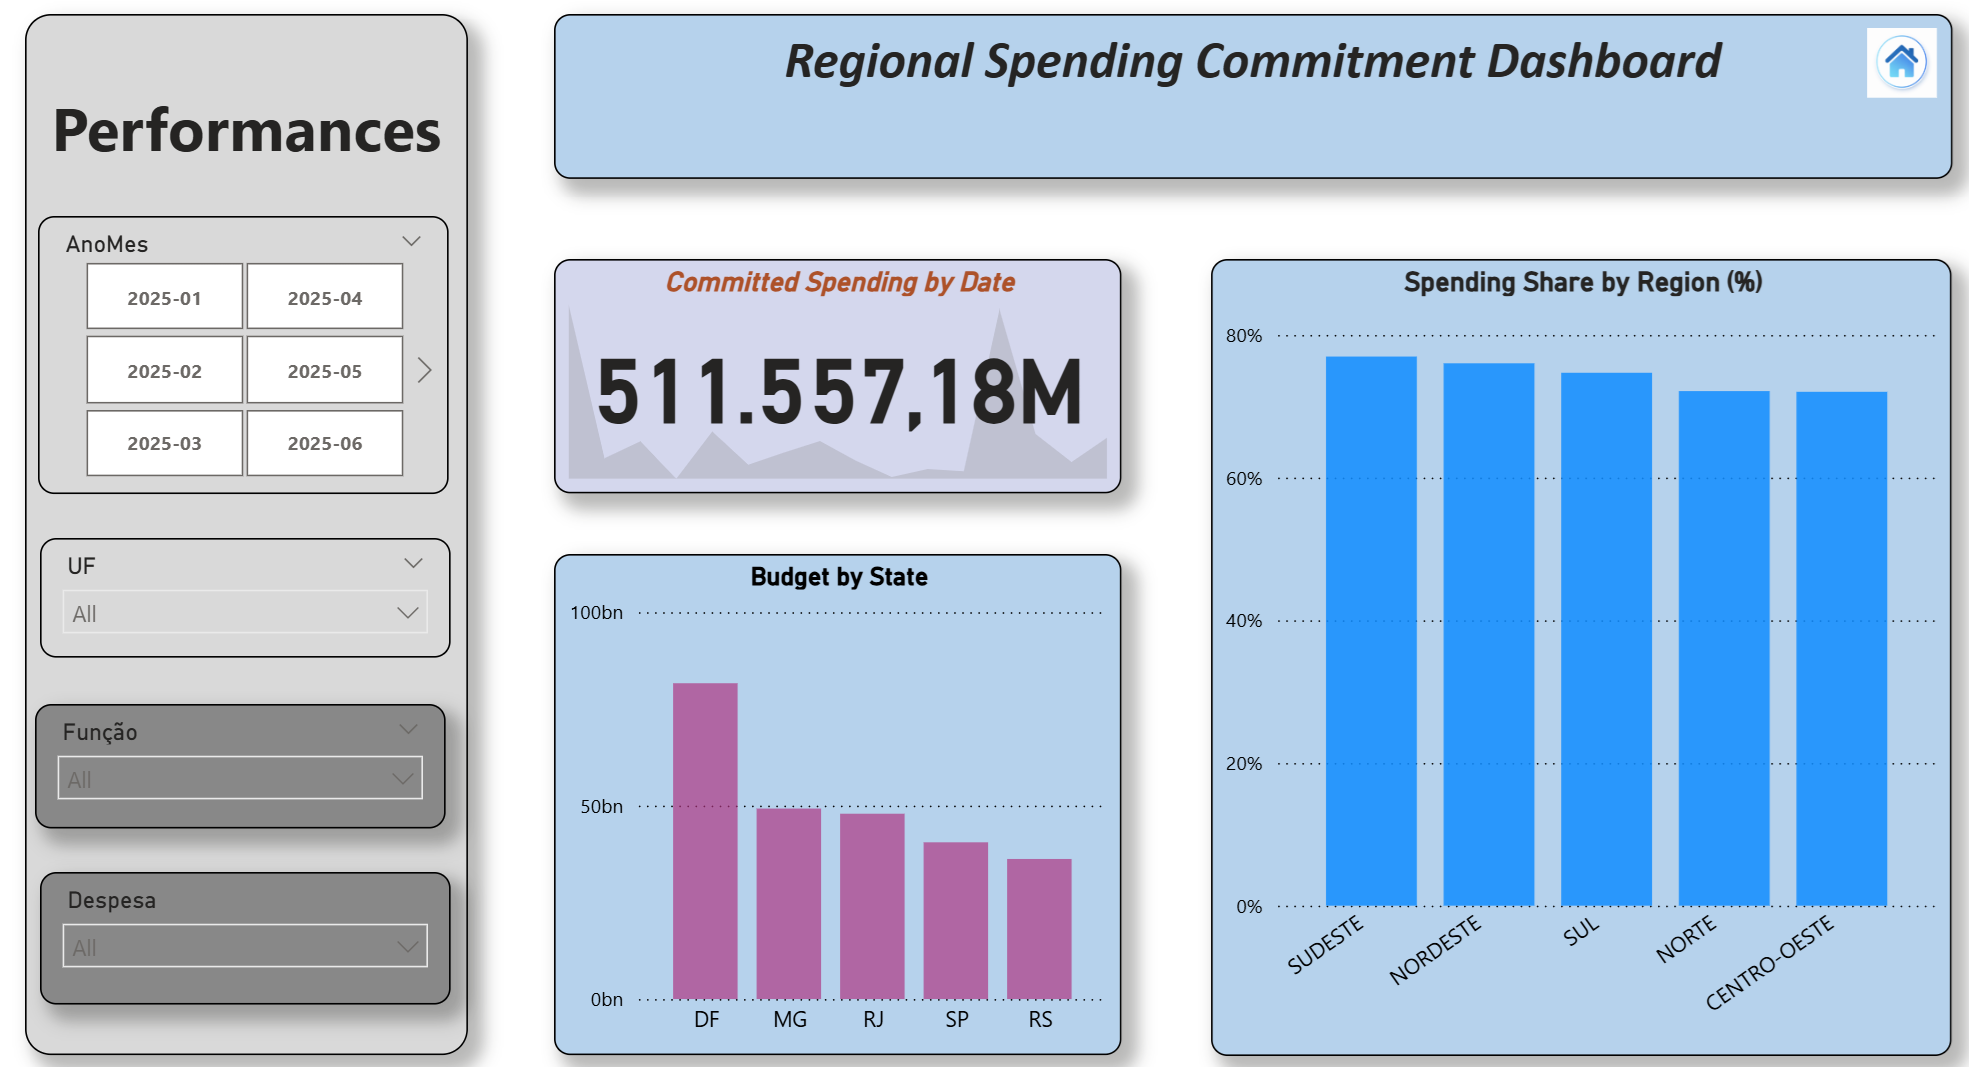

The dashboard page shown, as its layout file describes it:
{"tool":"powerbi","page":{"name":"Reg Control","canvas":[1280,720],"ordinal":2},"visuals":[{"type":"clusteredColumnChart","title":"Budget by State","fields":{"Category":["Dim_UF.UF"],"Y":["Messure.Total Empenhado"]},"box":[370.1,357.5,351.2,310.3],"z":0},{"type":"textbox","box":[370.1,23.6,864.7,102.4],"z":1},{"type":"clusteredColumnChart","title":"Spending Share by Region (%)","fields":{"Category":["Dim_UF.Regiao"],"Y":["Messure.% Execução Real"]},"box":[776.5,174.8,458.3,493],"z":3},{"type":"textbox","box":[42.5,23.6,274.1,644.2],"z":4},{"type":"slicer","fields":{"Values":["Dim_Funcao.Nome Função"]},"box":[48.9,450,254.2,77.4],"z":5},{"type":"slicer","fields":{"Values":["Dim_Despesa.Modalidade da Despesa"]},"box":[52.1,554.2,254.2,82.1],"z":6},{"type":"slicer","fields":{"Values":["Dim_Calendario.AnoMes"]},"box":[50.5,148.4,254.2,172.1],"z":7},{"type":"slicer","fields":{"Values":["Dim_UF.UF"]},"box":[52.1,347.4,254.2,74.2],"z":8},{"type":"kpi","title":"Committed Spending by Date","fields":{"Indicator":["Messure.Total Empenhado"],"TrendLine":["Dim_Calendario.AnoMes"]},"box":[370.1,174.8,351.2,144.9],"z":9},{"type":"actionButton","box":[1181.9,32.2,42.9,42.9],"z":12}]}

Visuals, with their boxes on the page's 1280x720 design canvas (x1, y1, x2, y2). These are canvas units, not pixel positions in the 1969x1067 screenshot, which may show the page scaled, cropped or inside an application window:
"Budget by State" clusteredColumnChart: {"x1": 370, "y1": 358, "x2": 721, "y2": 668}
textbox: {"x1": 370, "y1": 24, "x2": 1235, "y2": 126}
"Spending Share by Region (%)" clusteredColumnChart: {"x1": 776, "y1": 175, "x2": 1235, "y2": 668}
textbox: {"x1": 42, "y1": 24, "x2": 317, "y2": 668}
slicer - Dim_Funcao.Nome Função: {"x1": 49, "y1": 450, "x2": 303, "y2": 527}
slicer - Dim_Despesa.Modalidade da Despesa: {"x1": 52, "y1": 554, "x2": 306, "y2": 636}
slicer - Dim_Calendario.AnoMes: {"x1": 50, "y1": 148, "x2": 305, "y2": 320}
slicer - Dim_UF.UF: {"x1": 52, "y1": 347, "x2": 306, "y2": 422}
"Committed Spending by Date" kpi: {"x1": 370, "y1": 175, "x2": 721, "y2": 320}
actionButton: {"x1": 1182, "y1": 32, "x2": 1225, "y2": 75}
